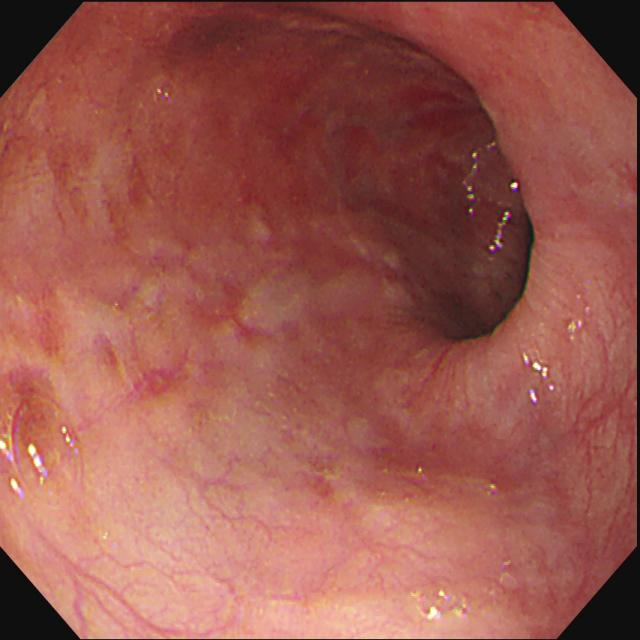A: (93, 240, 281, 402)
E: (399, 137, 550, 363)
T: (2, 390, 86, 503), (414, 581, 470, 625)
U: (487, 181, 524, 257), (463, 142, 499, 220), (524, 353, 557, 406)
